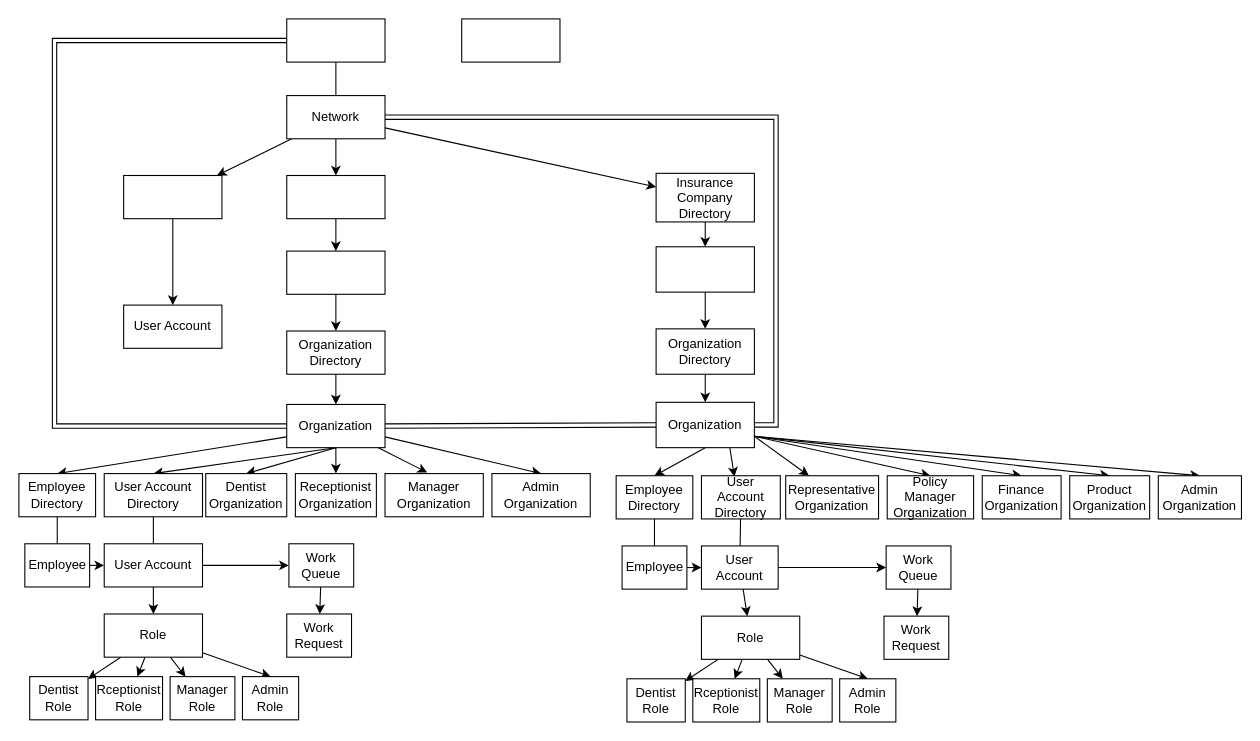
This 1260x741 diagram has some shape labels left out. The shapes that lost their labels are listed below. From the top down, each one's centre as x and y in pixels, then its label:
the point at 335,40: EcoSystem
the point at 510,40: Configure A System
the point at 172,196: Patients
the point at 335,196: Clinic Directory
the point at 335,272: Dental Clinic
the point at 704,269: Insurance Company
